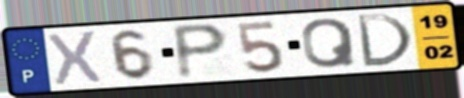5: (234, 19, 286, 75)
6: (108, 28, 158, 82)
D: (353, 12, 416, 69)
P: (170, 21, 232, 81)
Q: (300, 16, 359, 71)
X: (45, 29, 104, 87)
